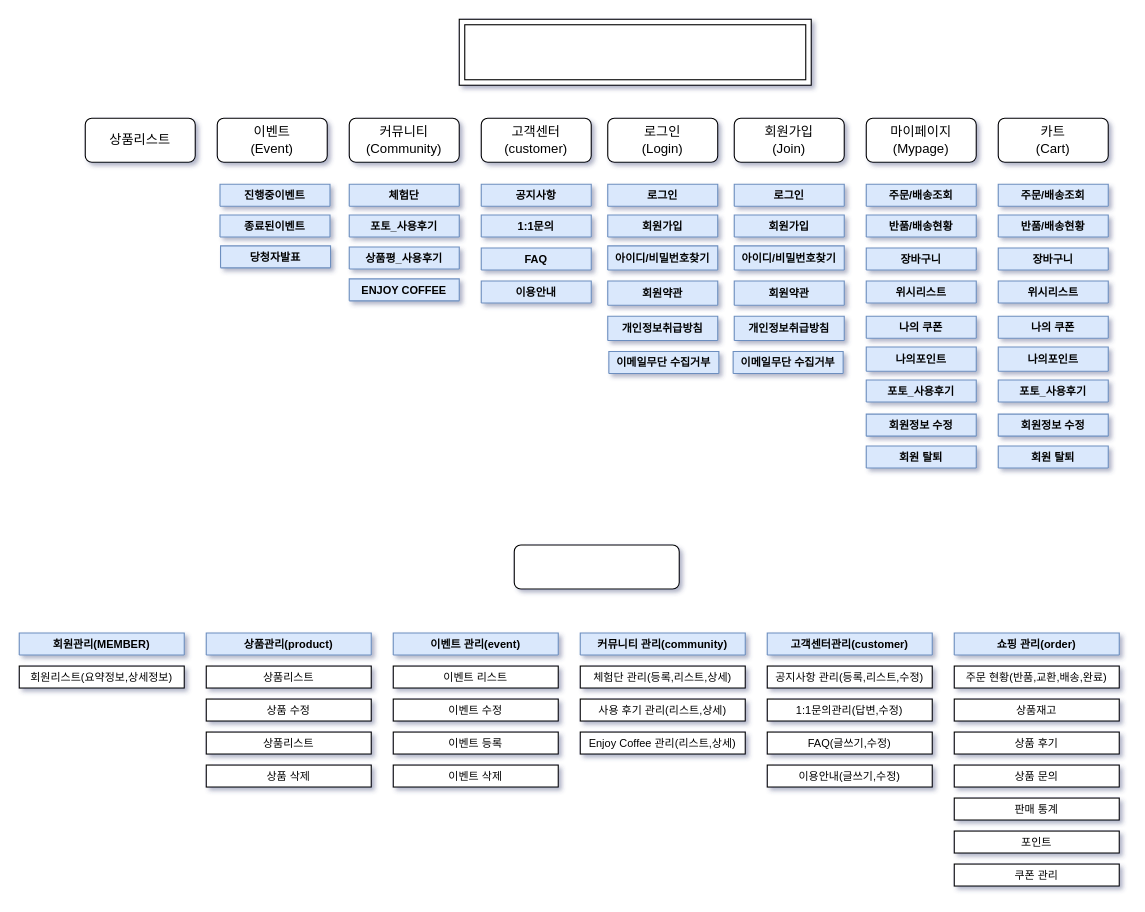
Some shapes in this 1145 by 912 pixel diagram are drawn without their labels. The centre of each missing label's shape, as x and y in pixels:
JARDIN SHOP 메뉴 구성도: the point at 634,51
관리자 페이지: the point at 596,566
